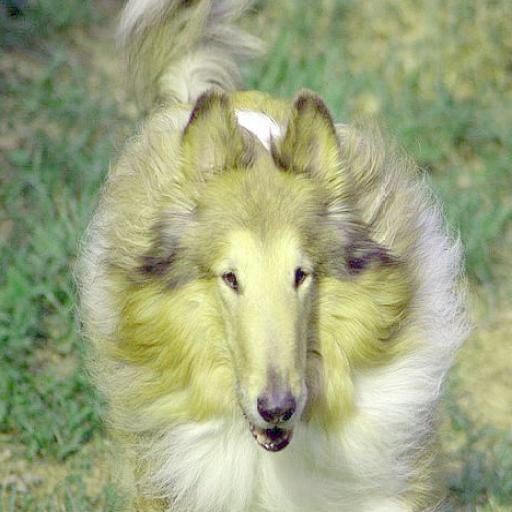dog_face: (140, 93, 387, 449)
